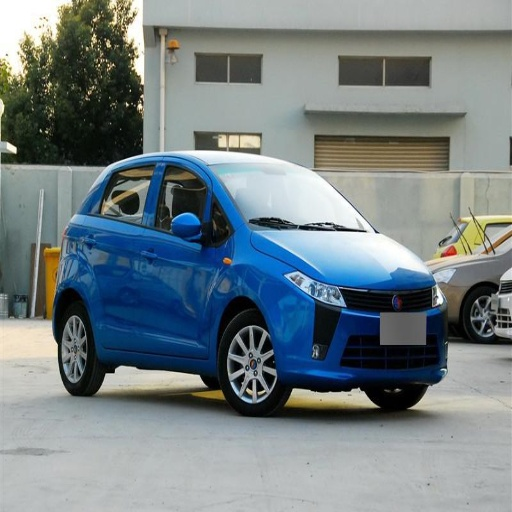front_bumper: (277, 279, 449, 391)
front_right_door: (141, 160, 228, 356)
